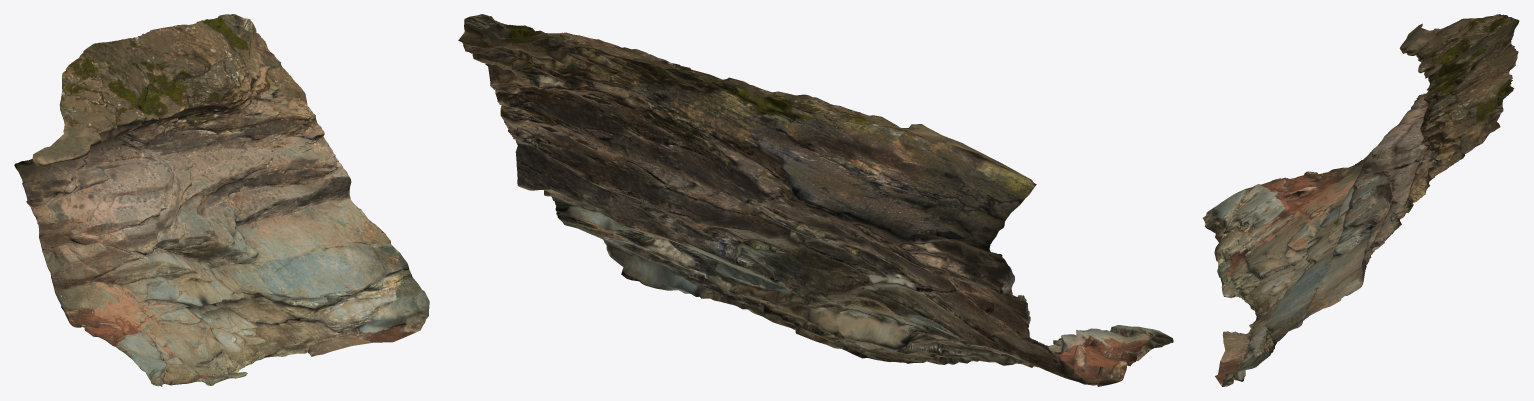
Rendered from rock_face_01.glb.
The picture shows the model from 3 angles, left to right: view 1: azimuth 30°, elevation 25°; view 2: azimuth 150°, elevation 25°; view 3: azimuth 270°, elevation 25°; orthographic projection. The views are drawn at different scales.
Visible parts, largest first — view 1: rock_face_01; view 2: rock_face_01; view 3: rock_face_01.
Boxes of the visible parts, x1,y1,x2,y2 form: rock_face_01: (14,14,429,386); rock_face_01: (458,14,1173,386); rock_face_01: (1202,14,1519,386).
Size of the model in its own units: 4.95 by 3.56 by 3.83.
1 material, 1 textured.
